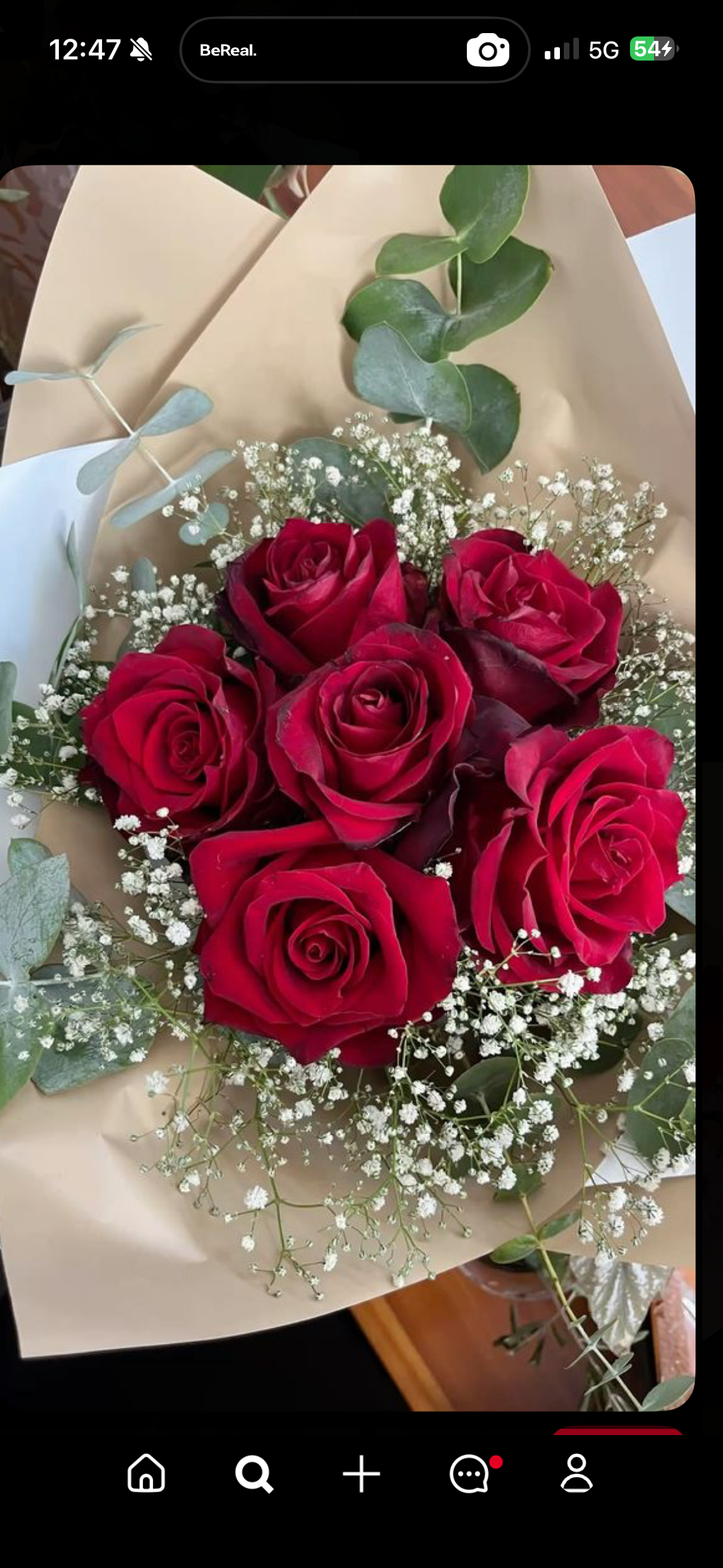rose: (186, 815, 460, 1064), (456, 721, 689, 990), (265, 619, 472, 855), (74, 619, 274, 841), (434, 525, 625, 736), (224, 511, 404, 680)
